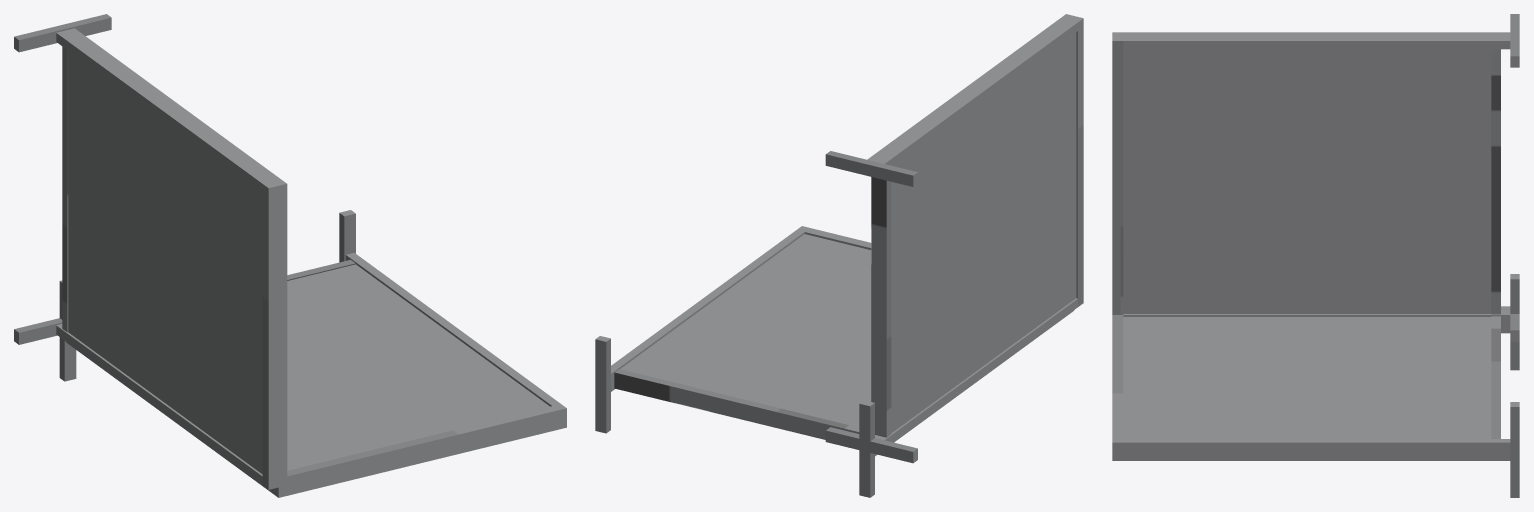
The picture shows the model from 3 angles, left to right: view 1: azimuth 30°, elevation 25°; view 2: azimuth 150°, elevation 25°; view 3: azimuth 270°, elevation 25°; orthographic projection. The views are drawn at different scales.
Bounding box in the file's own units: 1.16 × 1.16 × 1.3.
